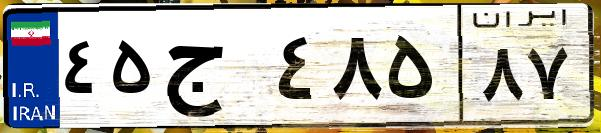4: (270, 28, 330, 110), (57, 26, 110, 100)
5: (385, 28, 445, 110), (110, 28, 158, 98)
7: (525, 38, 570, 115)
8: (330, 28, 385, 110), (475, 38, 525, 113)
ج: (158, 20, 270, 120)
